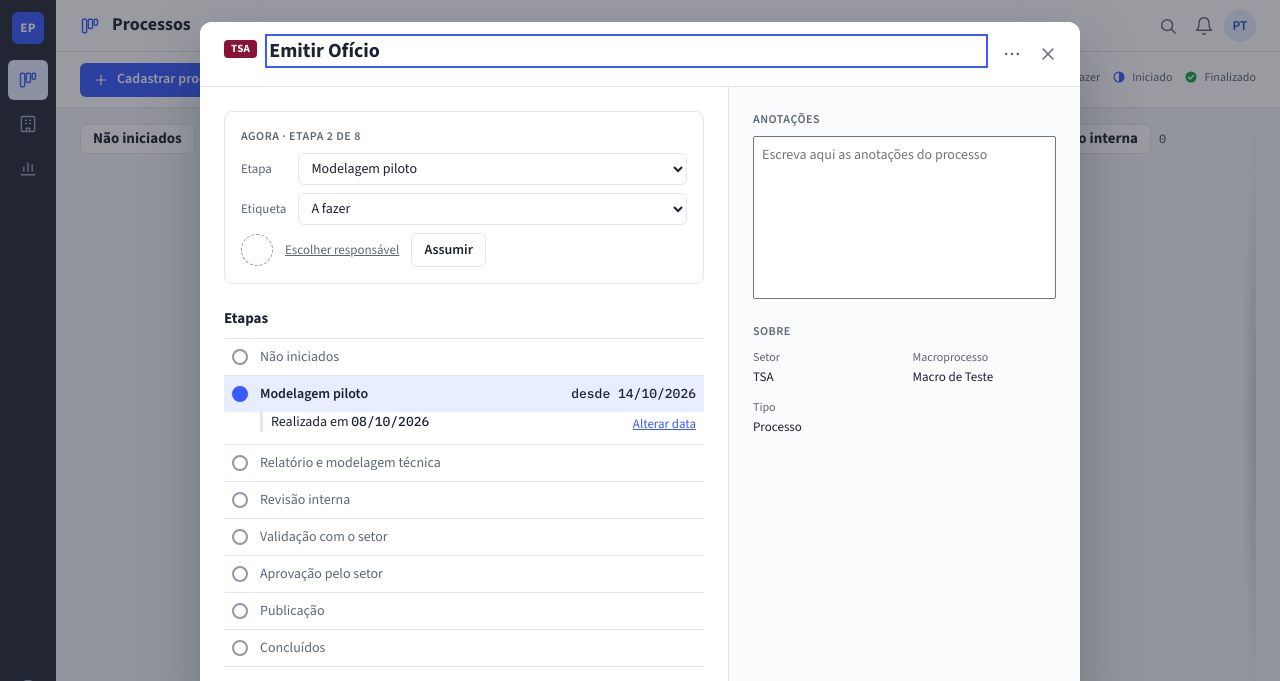
[Cancelar] volta à linha sem gravar
Step 1. Click the button "Alterar data" → (664, 424), box [633,412,696,436]
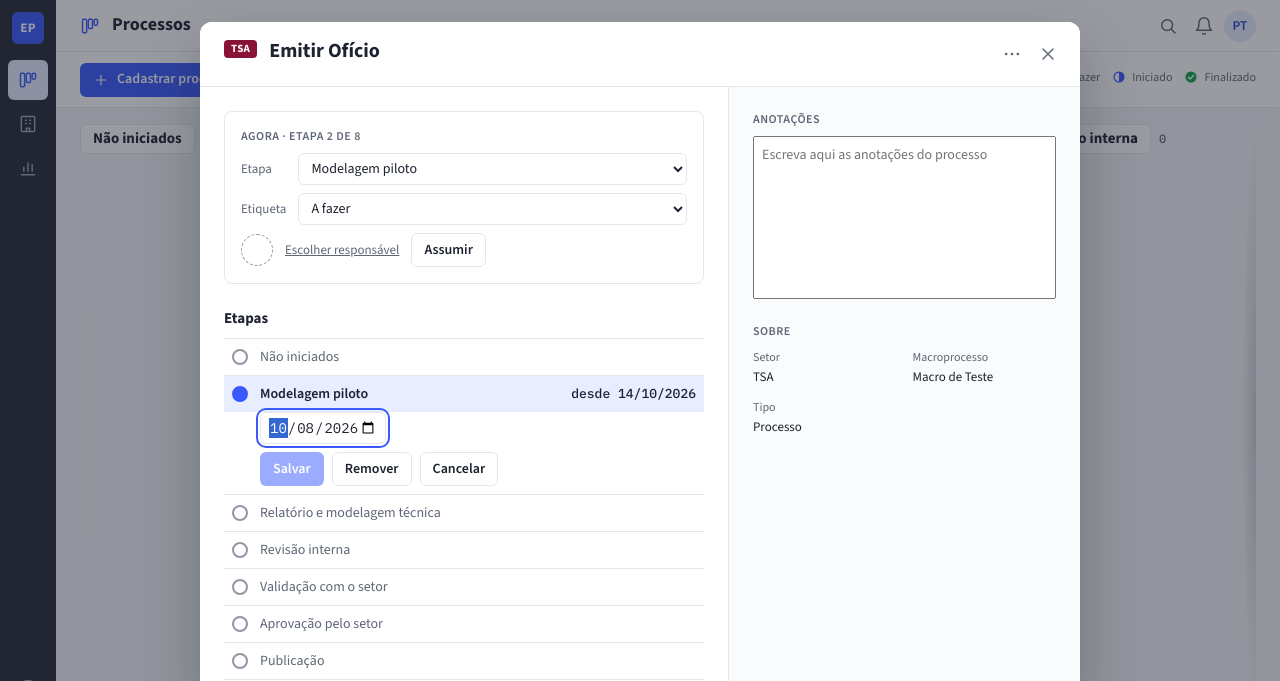
Step 2. Type "2026-10-09" into the date field named "Data da modelagem piloto" → (323, 428), box [260,412,386,444]
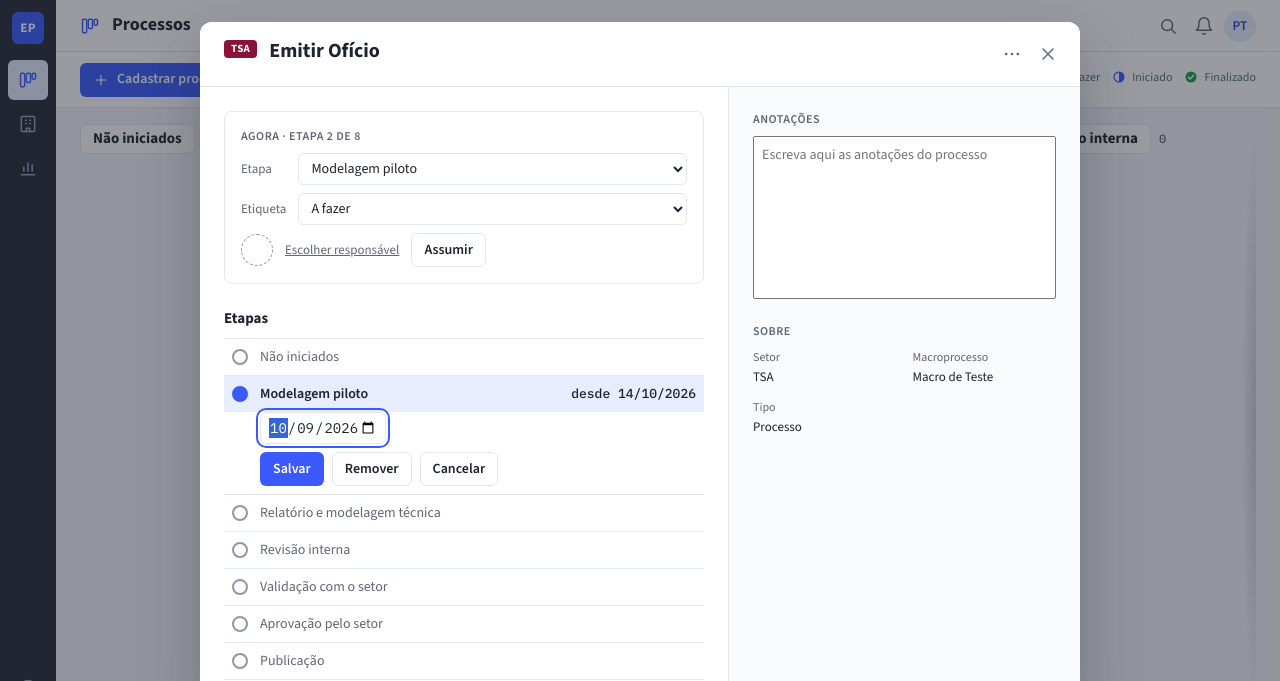
Step 3. Click the button "Cancelar" → (459, 469), box [420,452,498,486]
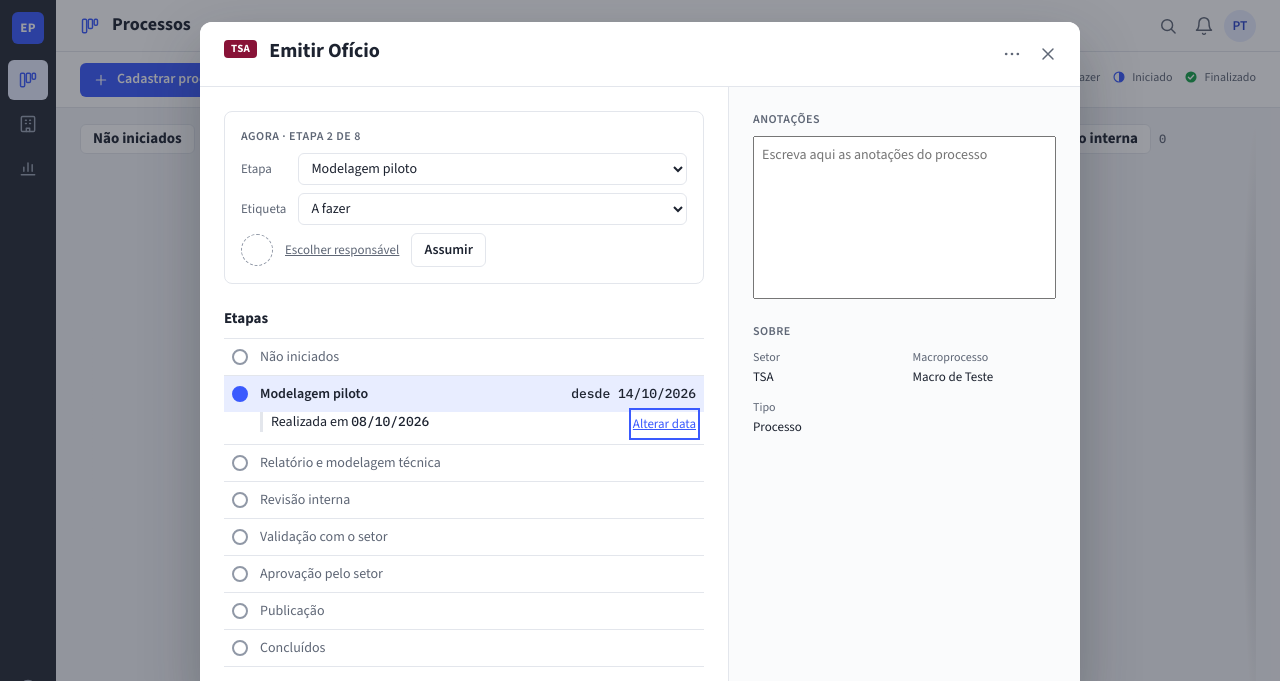
Expected: the text "Realizada em 08/10/2026" is shown, [260,412,429,432]
